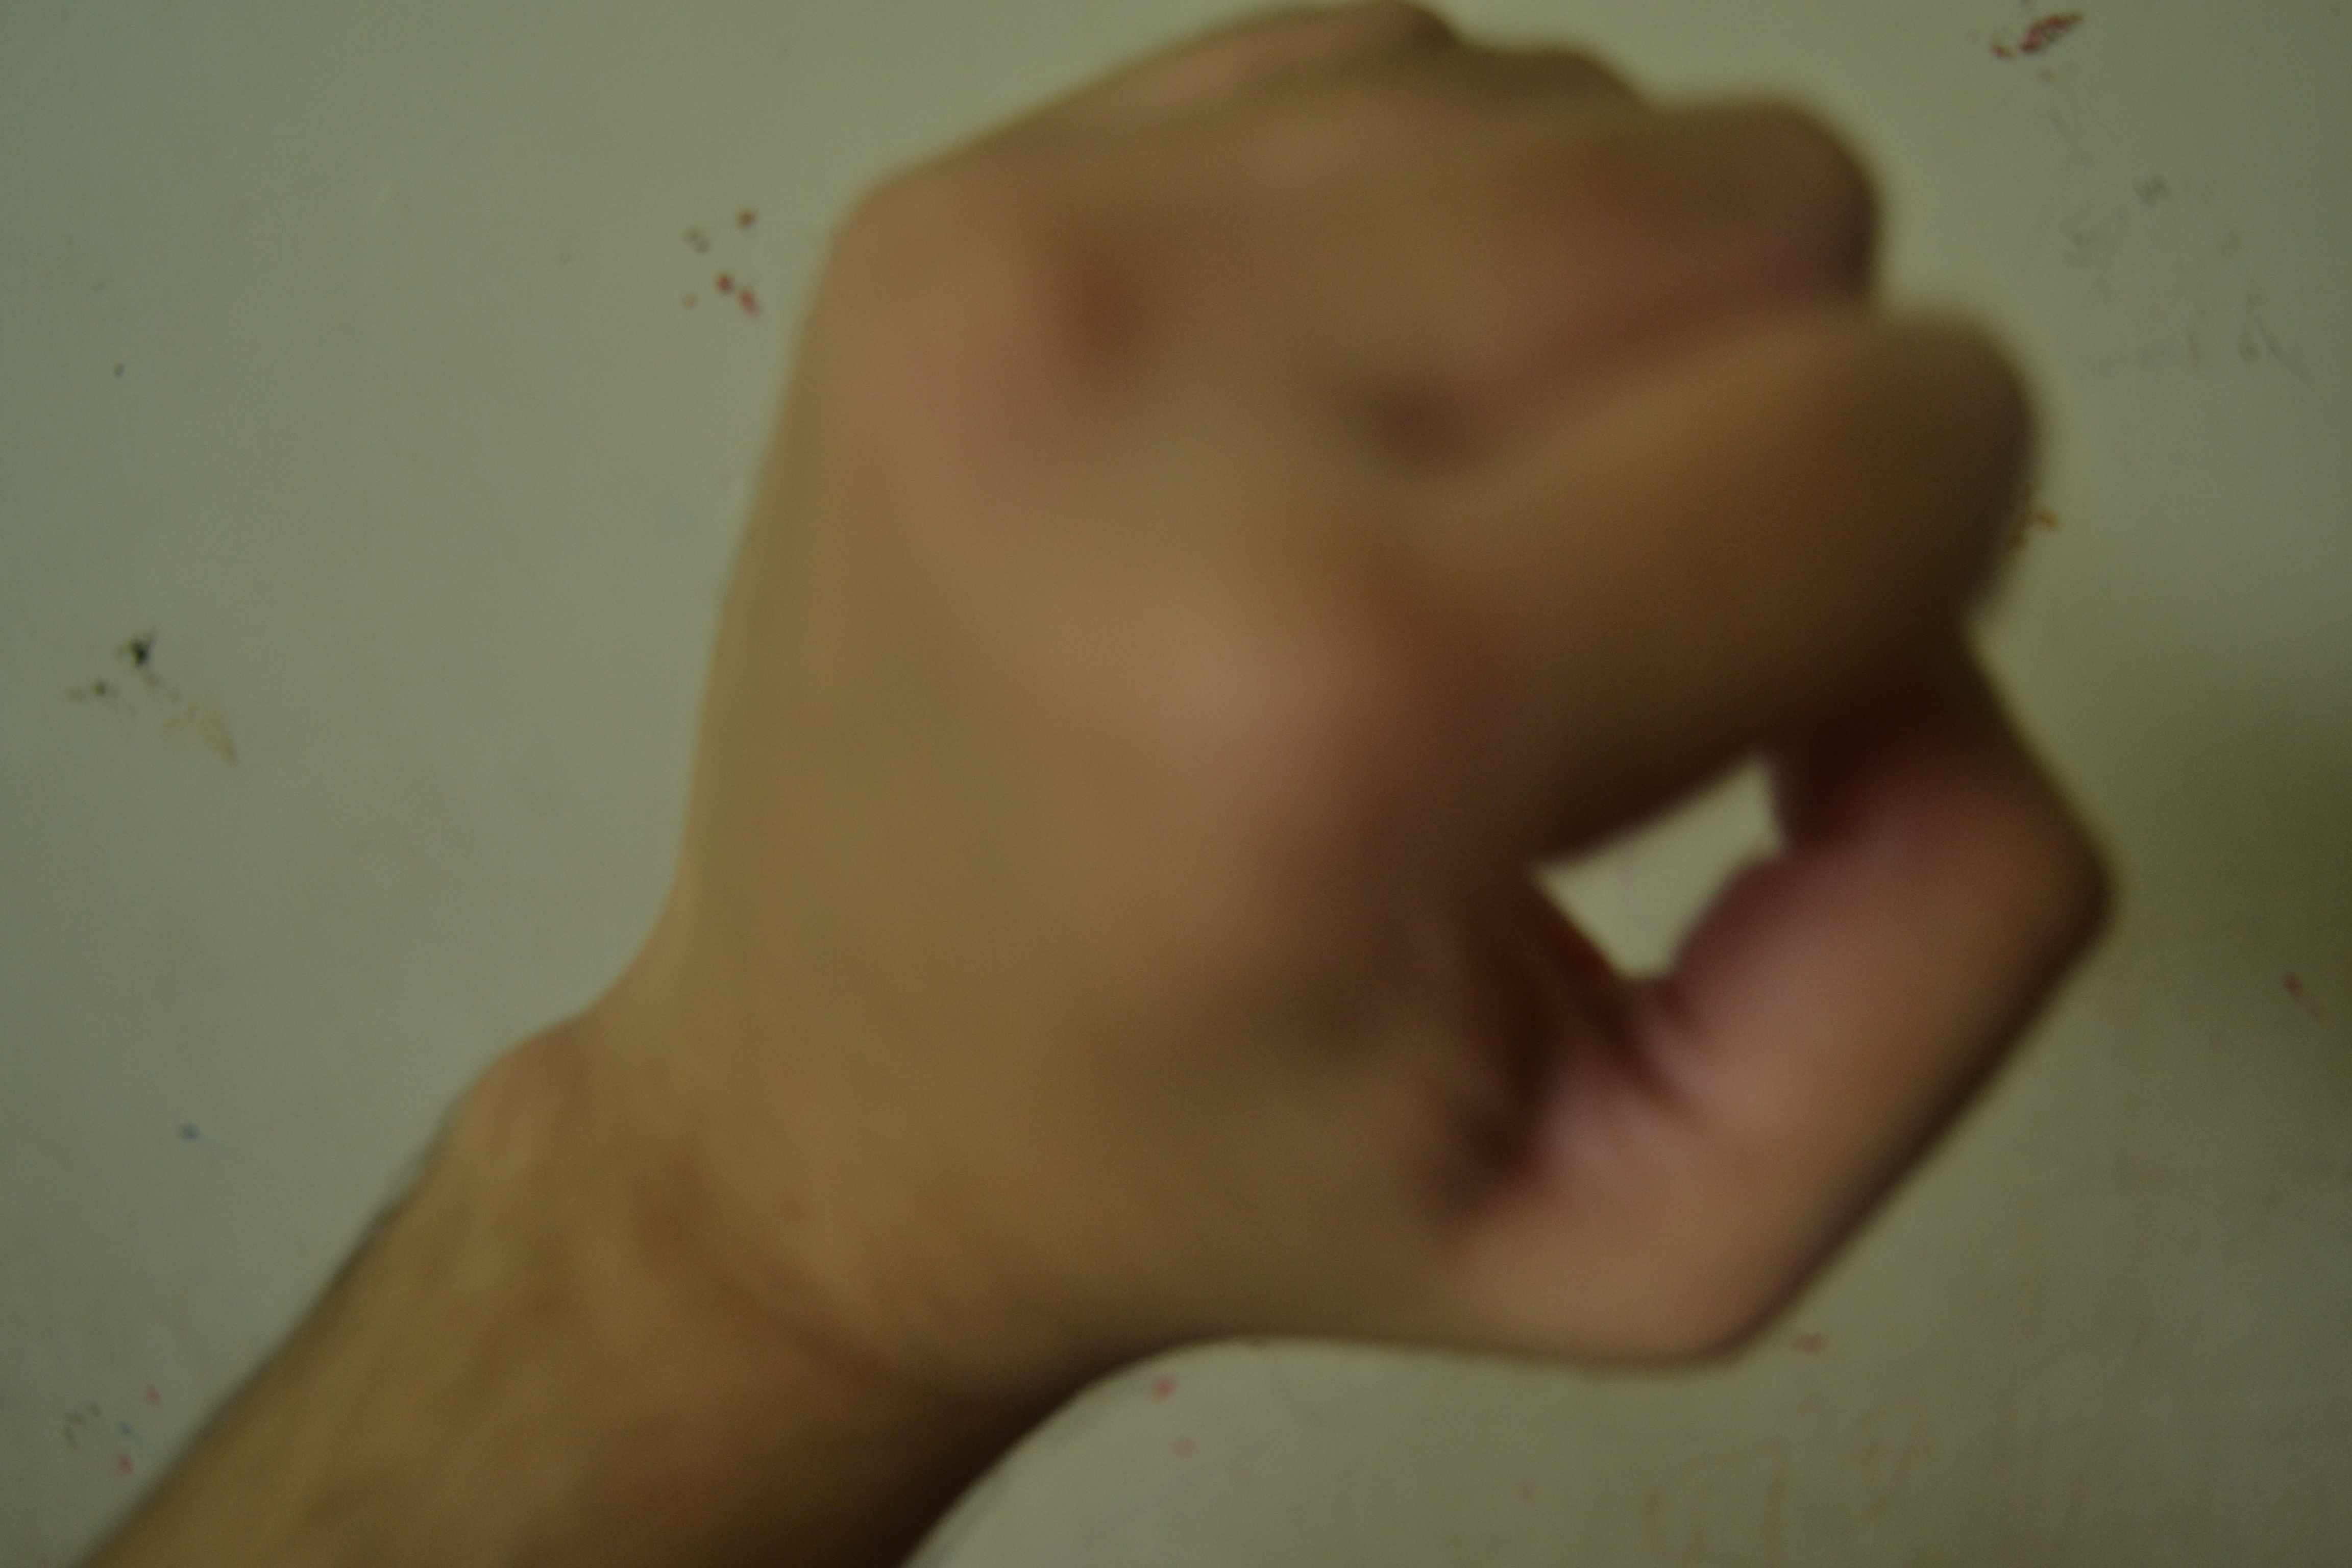click: (630, 12, 2102, 1451)
